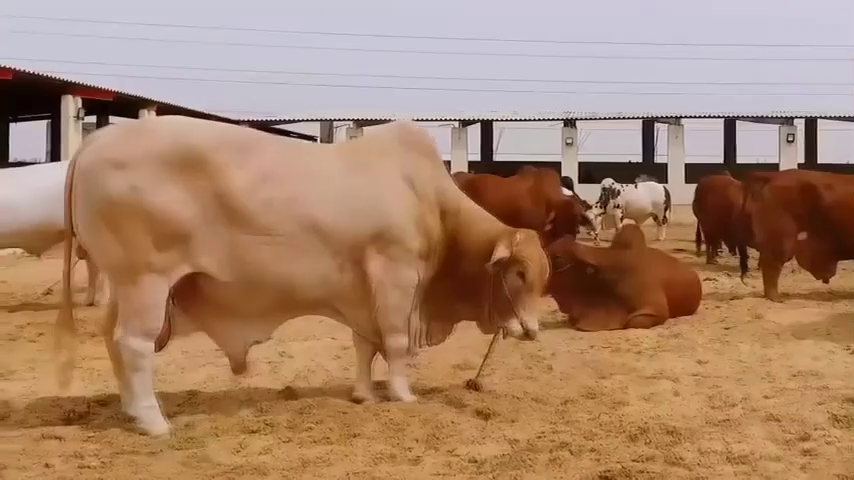bo: (57, 118, 554, 437), (1, 145, 105, 305), (541, 226, 702, 328), (731, 164, 853, 298), (446, 154, 596, 238), (682, 168, 758, 261), (588, 169, 675, 237)
